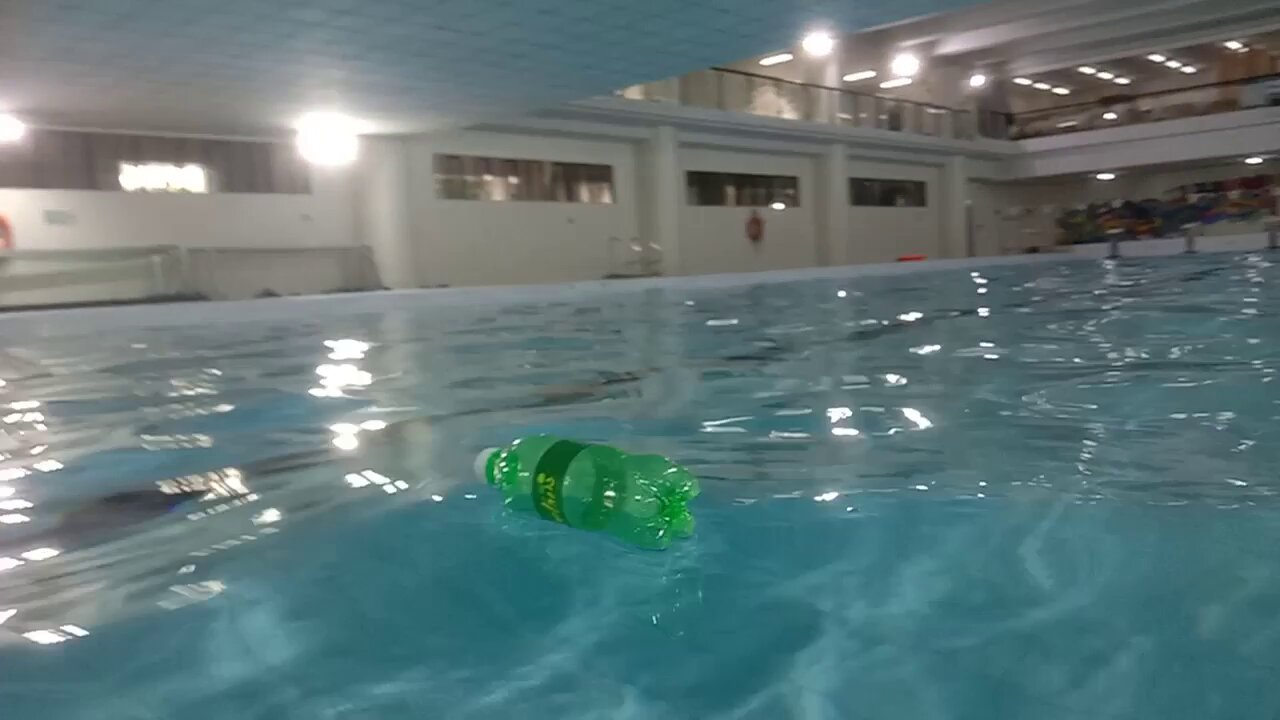plastic_bottle: (474, 434, 700, 551)
